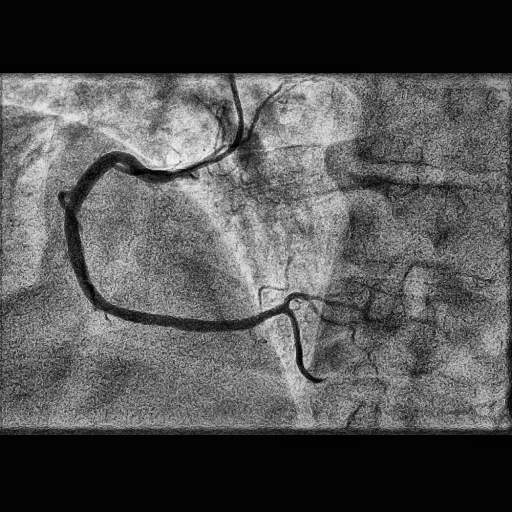pborca: (282, 292, 342, 306)
pda: (284, 308, 348, 384)
rca: (64, 151, 289, 332)
